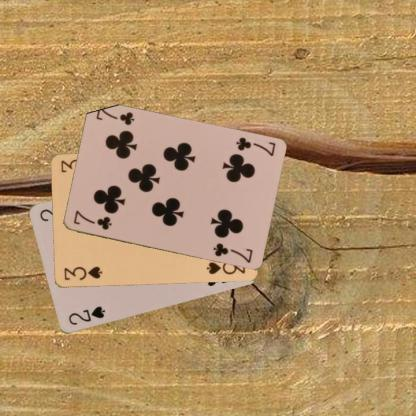2s: (66, 304, 106, 326)
3s: (61, 264, 104, 282)
7c: (233, 134, 276, 158), (70, 208, 112, 232)
